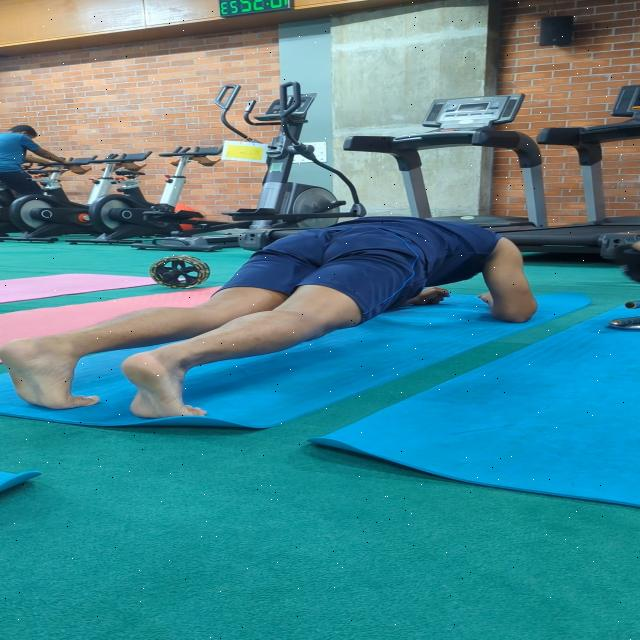Normal_Plunk: (0, 203, 553, 437)
